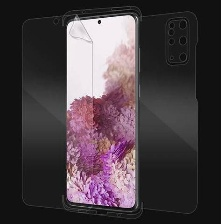phone: (60, 10, 143, 216)
